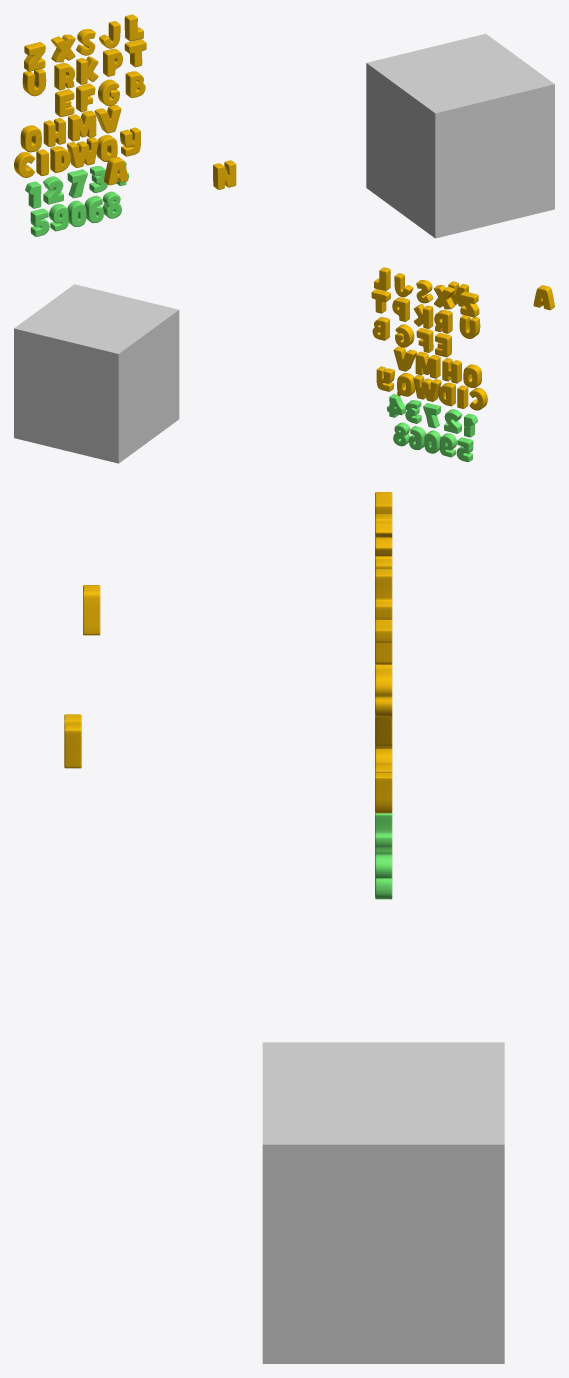
The model's file is letters.glb.
3 renders of one model, top to bottom at view 1: azimuth 30°, elevation 25°; view 2: azimuth 150°, elevation 25°; view 3: azimuth 270°, elevation 25°, orthographic. The views are drawn at different scales.
Parts seen in each view (by area): view 1: Cube, A:M, A:W, A:N, A:H, A:Z, A:U, A:A, A:X, A:V, A:Y, A:K (+24 smaller); view 2: Cube, A:M, A:W, A:H, A:U, A:Z, A:A, A:Y, A:V, A:X, A:K, A:R (+25 smaller); view 3: Cube.
Part boxes in pixels (box(x1,y1,x2,y2)): Cube: box(366, 33, 554, 238); A:M: box(67, 110, 96, 141); A:W: box(67, 137, 98, 167); A:N: box(213, 160, 236, 189); A:H: box(43, 118, 65, 146); A:Z: box(24, 42, 45, 71); A:U: box(22, 69, 46, 96); A:A: box(104, 157, 128, 185); A:X: box(51, 34, 75, 62); A:V: box(94, 105, 121, 133); A:Y: box(120, 127, 140, 156); A:K: box(76, 56, 98, 84); Cube: box(14, 284, 179, 463); A:M: box(415, 351, 440, 378); A:W: box(413, 375, 441, 401); A:H: box(442, 358, 461, 383); A:U: box(459, 315, 480, 338); A:Z: box(460, 291, 479, 317); A:A: box(533, 285, 554, 310); A:Y: box(376, 366, 394, 391); A:V: box(393, 346, 416, 371); A:X: box(433, 285, 455, 309); A:K: box(414, 304, 433, 328); A:R: box(434, 310, 452, 333); Cube: box(262, 1042, 504, 1363).
Size of the model in its own units: 7.94 by 3.95 by 3.43.
